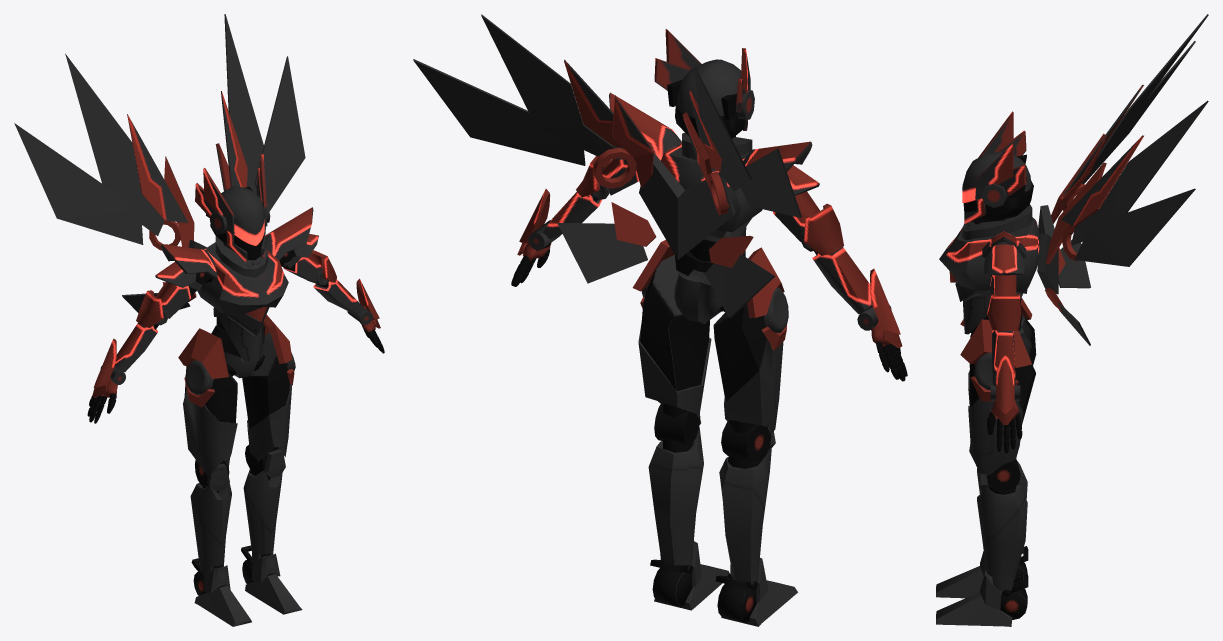
Rendered from Female_7.glb.
The picture shows the model from 3 angles, left to right: view 1: azimuth 30°, elevation 25°; view 2: azimuth 150°, elevation 25°; view 3: azimuth 270°, elevation 25°; orthographic projection. The views are drawn at different scales.
Parts seen in each view (by area): view 1: W1, WW2, WW1, GNG, BR1, GV2, GV1, NT, BR2, GV1.1, ARM1; view 2: W1, WW2, WW1, GNG, GV2, BR1, GV1, ARM1, BR2; view 3: W1, WW2, WW1, GNG, BR2, NT, GV2.2, ARM2, GV2.
Part boxes in pixels (x1,y1,x2,y2): W1: [87, 154, 384, 626]; WW2: [14, 14, 305, 312]; WW1: [127, 91, 247, 301]; GNG: [197, 242, 288, 321]; BR1: [178, 328, 228, 378]; GV2: [265, 207, 313, 260]; GV1: [161, 244, 217, 279]; NT: [215, 236, 268, 277]; BR2: [263, 314, 292, 363]; GV1.1: [155, 262, 196, 287]; ARM1: [93, 338, 116, 387]; W1: [511, 29, 907, 626]; WW2: [413, 14, 801, 318]; WW1: [564, 59, 753, 267]; GNG: [661, 144, 762, 238]; GV2: [609, 92, 681, 160]; BR1: [747, 247, 784, 317]; GV1: [739, 141, 812, 188]; ARM1: [870, 268, 900, 334]; BR2: [632, 240, 674, 291]; W1: [936, 111, 1036, 626]; WW2: [1058, 14, 1208, 345]; WW1: [1037, 84, 1143, 311]; GNG: [939, 217, 1039, 293]; BR2: [960, 319, 1032, 367]; NT: [962, 204, 1032, 239]; GV2.2: [984, 244, 1024, 275]; ARM2: [996, 354, 1014, 414]; GV2: [982, 231, 1026, 257].
Bounding box in the file's own units: 3.6 × 5.8 × 2.62.
Materials: 2 (2 with a texture image).
